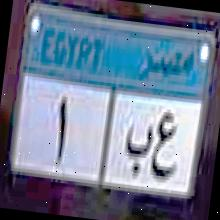1: (51, 90, 75, 168)
ain: (148, 101, 180, 185)
baa: (122, 115, 154, 180)
